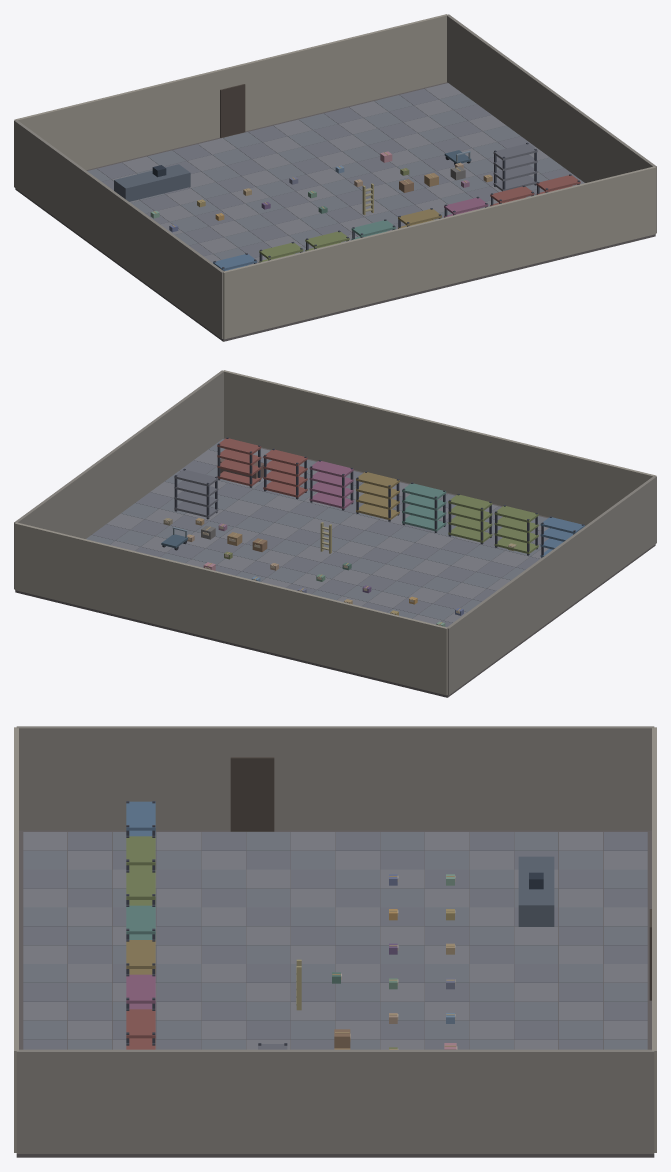
File: tiendaDars.obj
The picture shows the model from 3 angles, top to bottom: view 1: azimuth 30°, elevation 25°; view 2: azimuth 150°, elevation 25°; view 3: azimuth 270°, elevation 25°; orthographic projection. The views are drawn at different scales.
Visible parts, largest first — view 1: Pavimento, Muro_del_fondo, Pared_lateral, Muro_frontal, Suelo_continuo, Mostrador_de_venta, Estante_H1, Puerta_CALLE, Estante_B1, Estante_E1, Estante_R2, Estante_B2 (+3 smaller); view 2: Pavimento, Muro_frontal, Muro_del_fondo, Pared_lateral, Suelo_continuo, Estante_C1, Estante_E1, Estante_B2, Estante_H1, Estante_D1, Estante_R1, Estante_R2 (+2 smaller); view 3: Pared_lateral, Pavimento, Suelo_continuo, Puerta_DESCANSO, Mostrador_de_venta, Muro_del_fondo, Muro_frontal, Estante_A2, Estante_E1, Estante_C1, Estante_B2, Estante_D1 (+2 smaller).
Boxes of the visible parts, x1=… form: Pavimento: x1=87, y1=83, x2=584, y2=264; Muro_del_fondo: x1=223, y1=166, x2=656, y2=339; Pared_lateral: x1=14, y1=14, x2=656, y2=338; Muro_frontal: x1=14, y1=14, x2=447, y2=170; Suelo_continuo: x1=15, y1=82, x2=655, y2=341; Mostrador_de_venta: x1=114, y1=164, x2=190, y2=201; Estante_H1: x1=493, y1=142, x2=537, y2=191; Puerta_CALLE: x1=220, y1=84, x2=245, y2=137; Estante_B1: x1=259, y1=242, x2=303, y2=262; Estante_E1: x1=444, y1=196, x2=488, y2=217; Estante_R2: x1=536, y1=174, x2=580, y2=194; Estante_B2: x1=305, y1=230, x2=349, y2=251; Pavimento: x1=86, y1=439, x2=548, y2=627; Muro_frontal: x1=14, y1=522, x2=447, y2=695; Muro_del_fondo: x1=224, y1=370, x2=656, y2=525; Pared_lateral: x1=14, y1=370, x2=656, y2=694; Suelo_continuo: x1=15, y1=438, x2=655, y2=697; Estante_C1: x1=402, y1=482, x2=446, y2=532; Estante_E1: x1=309, y1=460, x2=353, y2=510; Estante_B2: x1=448, y1=493, x2=492, y2=544; Estante_H1: x1=174, y1=468, x2=218, y2=519; Estante_D1: x1=356, y1=471, x2=399, y2=521; Estante_R1: x1=263, y1=448, x2=307, y2=499; Estante_R2: x1=217, y1=437, x2=261, y2=487; Pared_lateral: x1=16, y1=726, x2=654, y2=1153; Pavimento: x1=23, y1=832, x2=647, y2=1049; Suelo_continuo: x1=16, y1=830, x2=654, y2=1157; Puerta_DESCANSO: x1=230, y1=757, x2=274, y2=831; Mostrador_de_venta: x1=518, y1=856, x2=554, y2=926; Muro_del_fondo: x1=14, y1=727, x2=18, y2=1152; Muro_frontal: x1=652, y1=727, x2=656, y2=1152; Estante_A2: x1=126, y1=801, x2=155, y2=836; Estante_E1: x1=126, y1=974, x2=155, y2=1009; Estante_C1: x1=126, y1=904, x2=155, y2=939; Estante_B2: x1=126, y1=870, x2=155, y2=905; Estante_D1: x1=126, y1=939, x2=155, y2=974.
Size of the model in its own units: 36.24 by 5.54 by 30.24.
